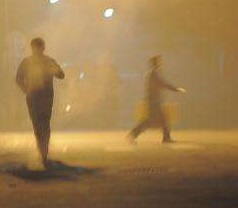person: (15, 37, 67, 170), (125, 53, 187, 146)
